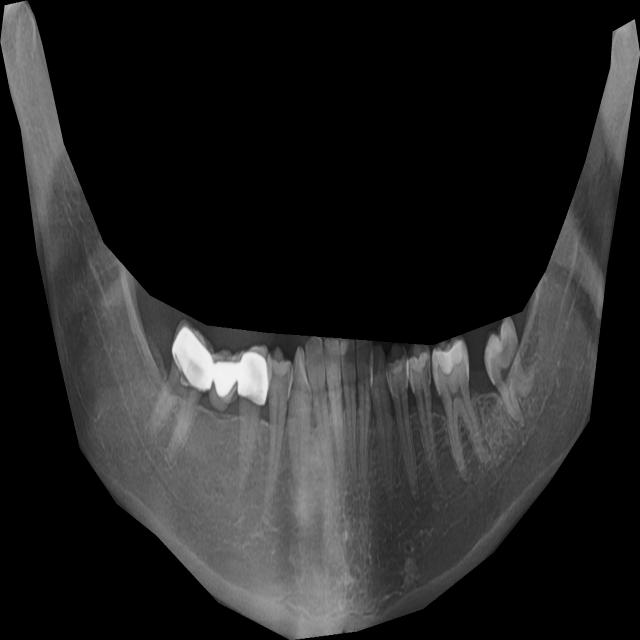mandibula: (0, 0, 640, 640)
